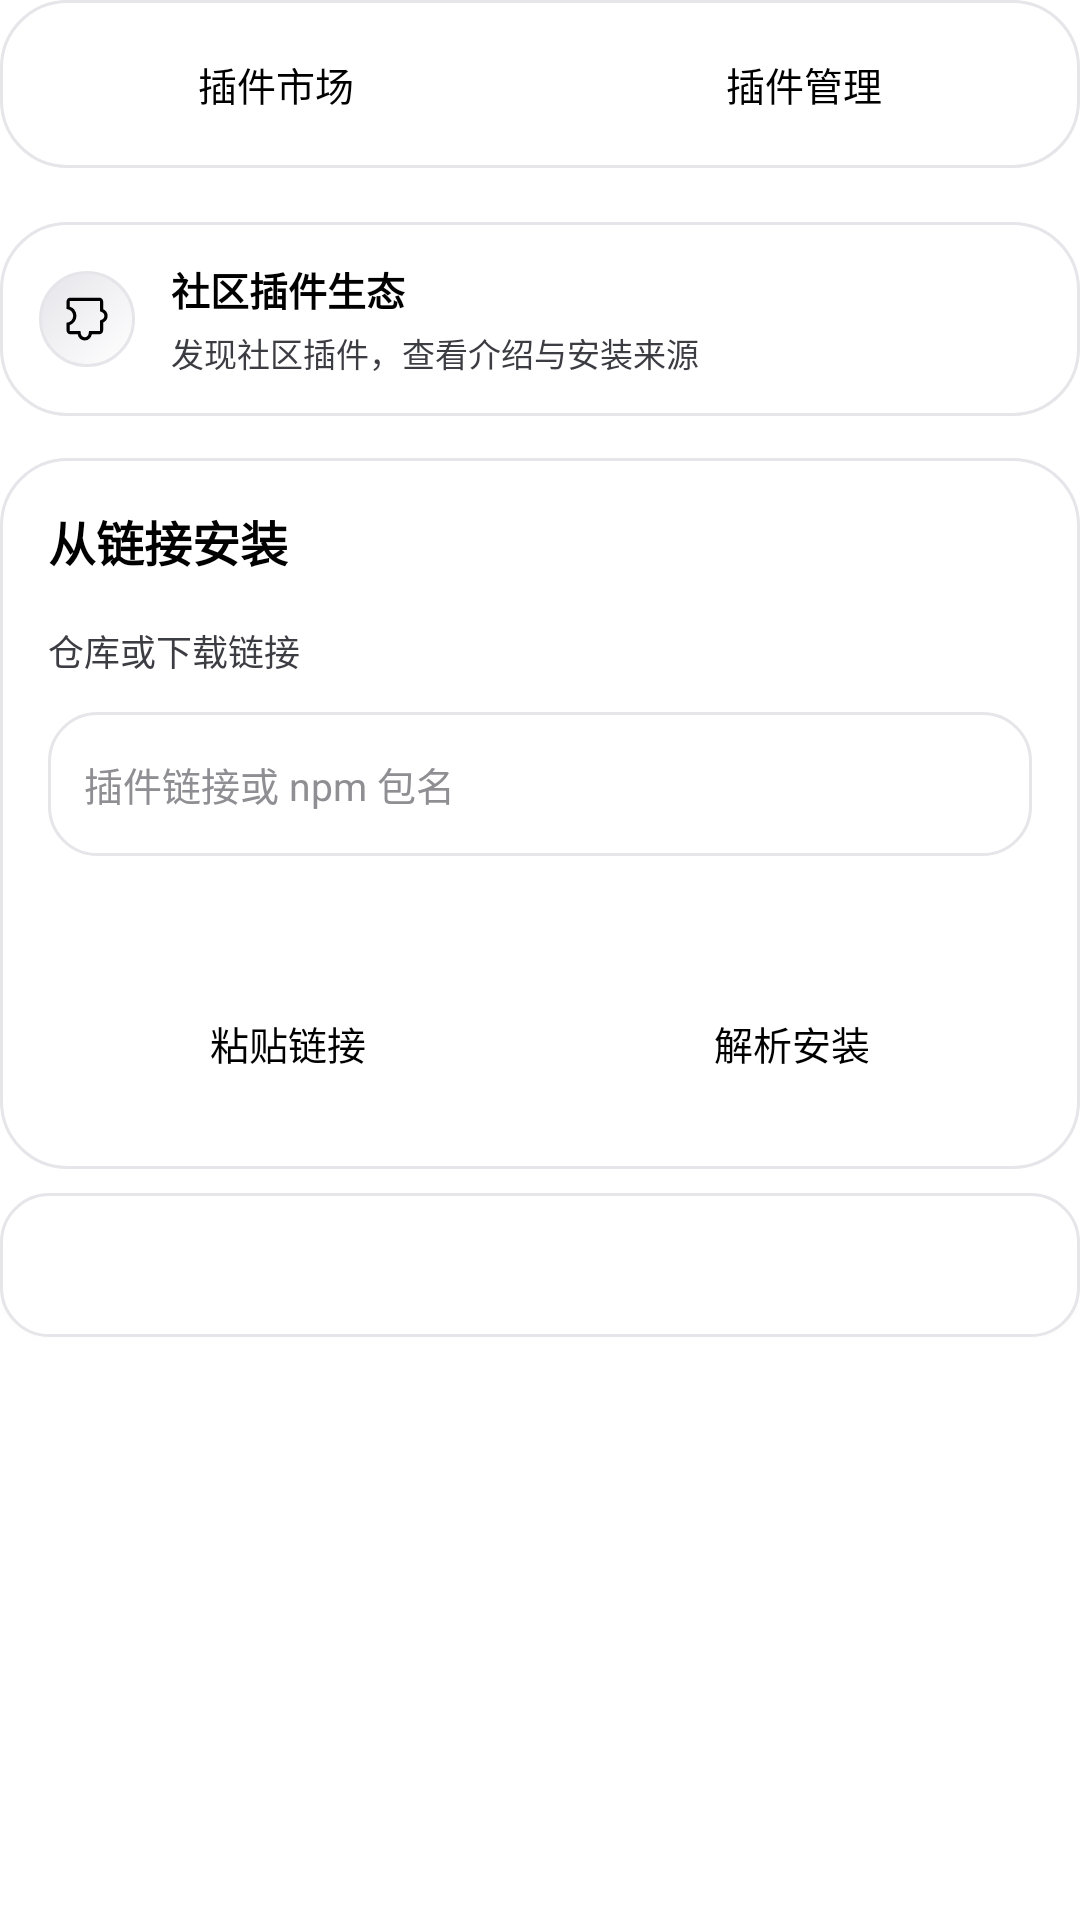

Icons on this 1080 × 1920 Android screen, each with its box as (x1, y1, x2, y2):
plugins: (39, 271, 135, 367)
